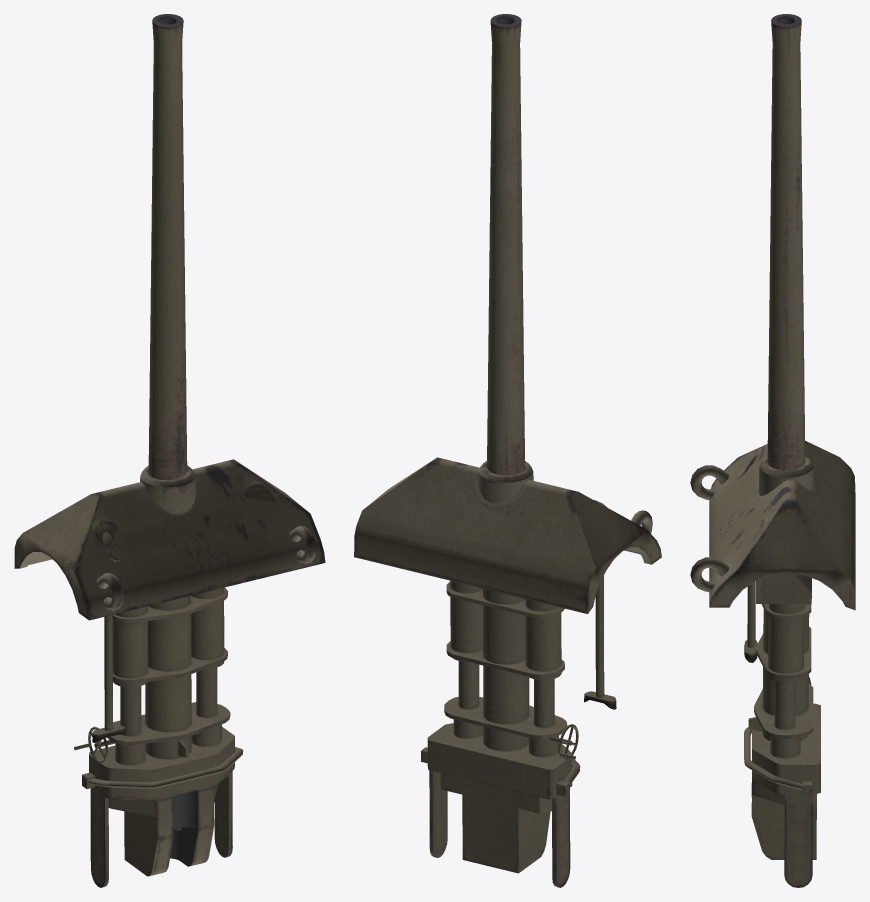
Rendered from Gun_01.glb.
3 renders of one model, left to right at view 1: azimuth 30°, elevation 25°; view 2: azimuth 150°, elevation 25°; view 3: azimuth 270°, elevation 25°, orthographic. The views are drawn at different scales.
Visible parts, largest first — view 1: set_0_group_0; view 2: set_0_group_0; view 3: set_0_group_0.
Part boxes in pixels (x1,y1,x2,y2): set_0_group_0: (14,14,325,887); set_0_group_0: (354,14,661,887); set_0_group_0: (690,14,855,887).
Size of the model in its own units: 1.18 by 4.09 by 0.7329.
Materials: 1 (1 with a texture image).
